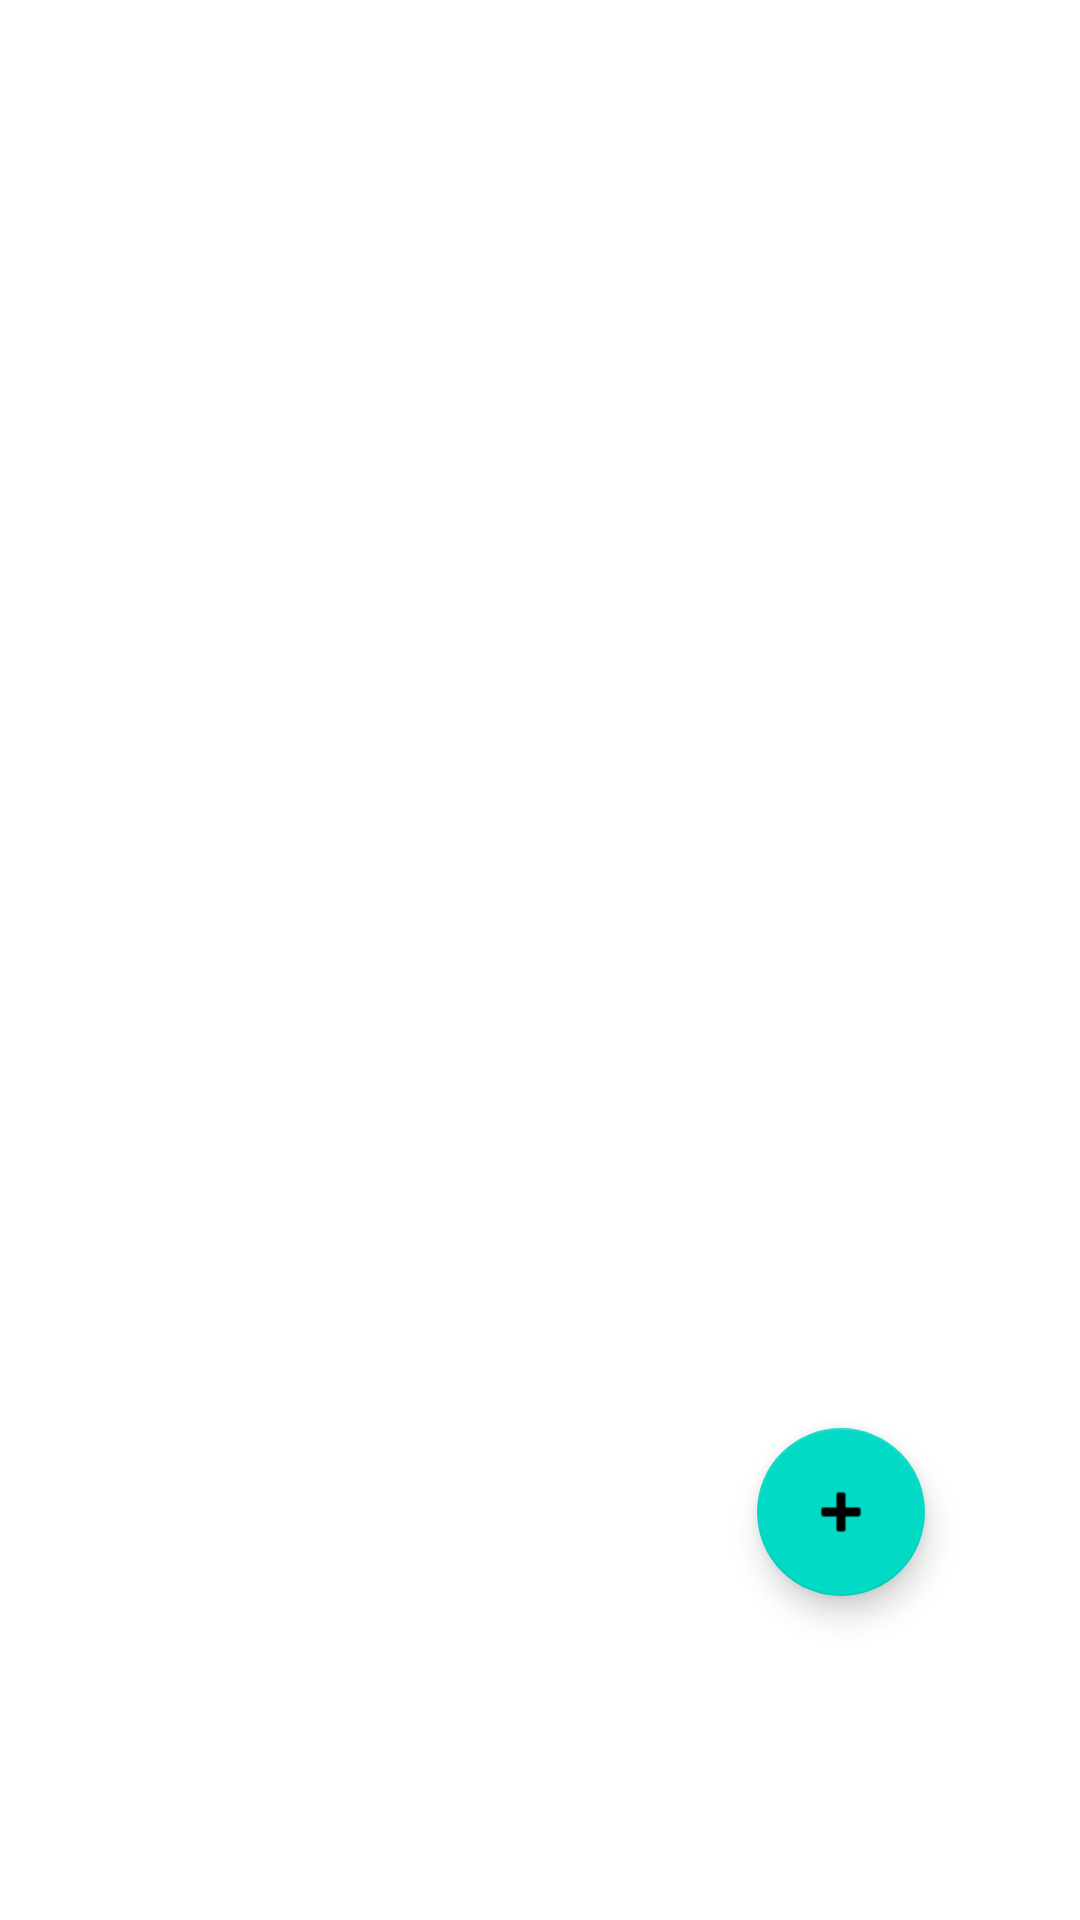

Icons on this 1080×1920 Android screen, each with its box as (x1, y1, x2, y2):
add: (757, 1428, 925, 1596)
